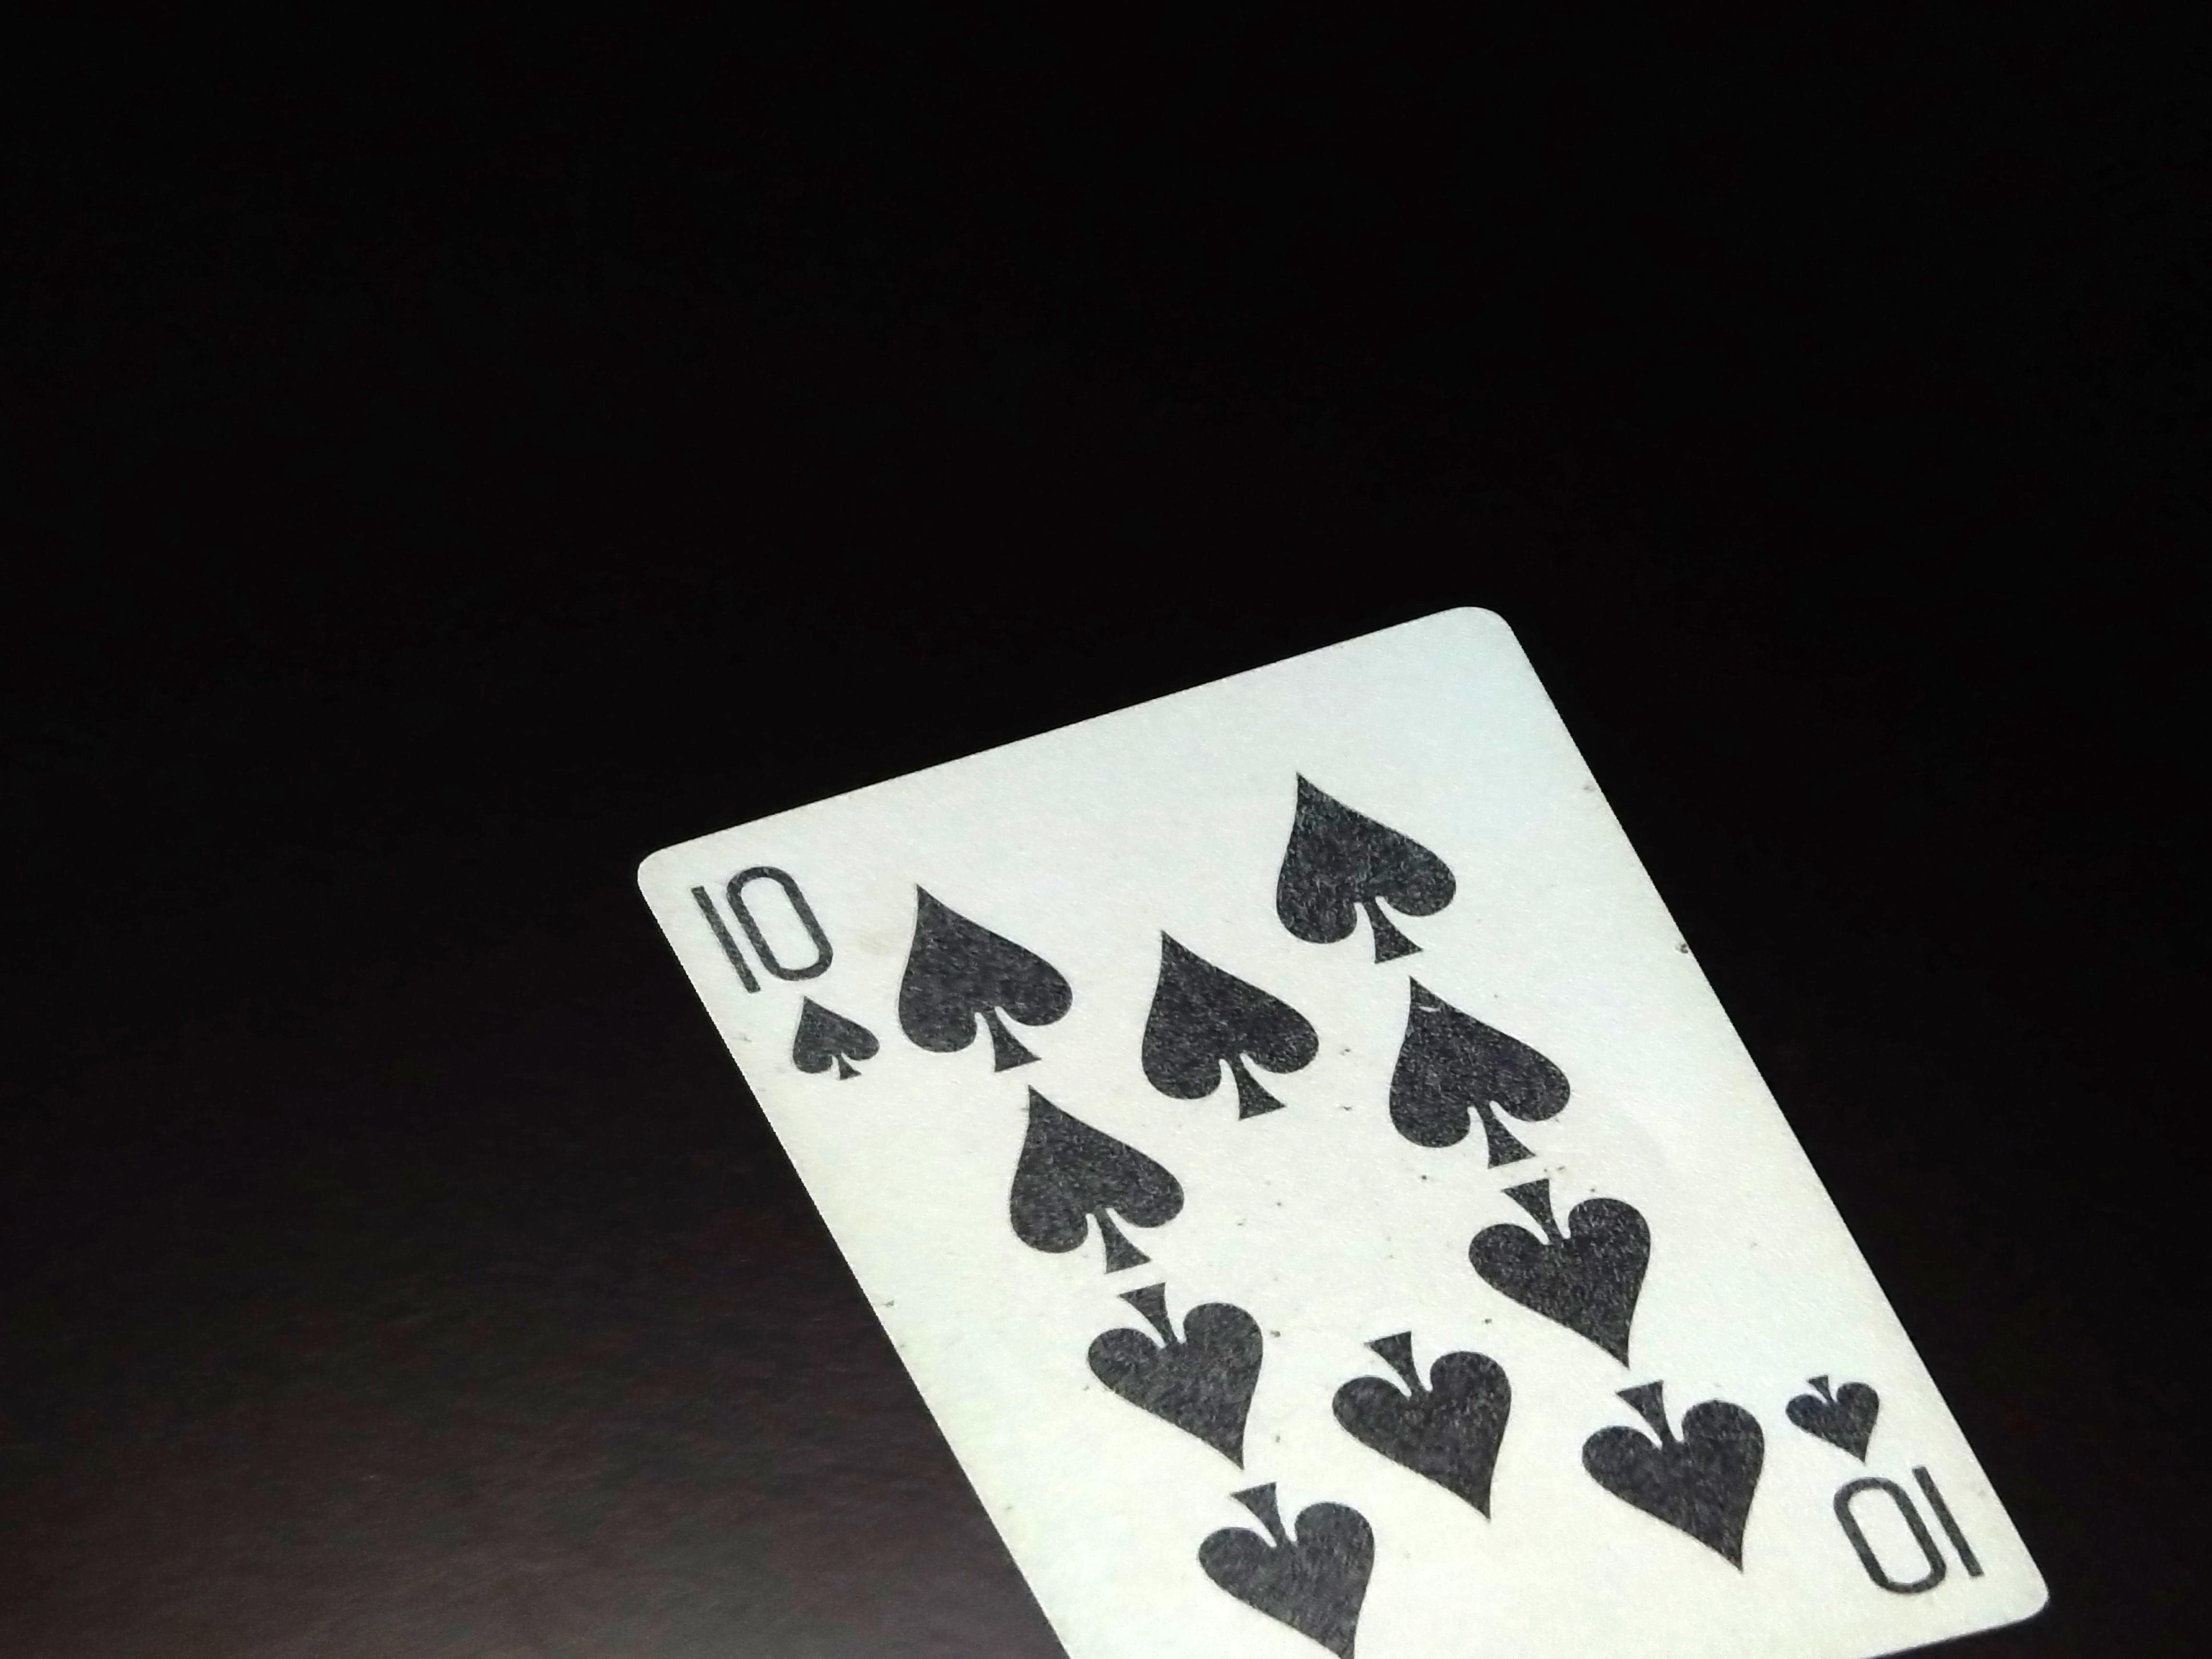10S: (686, 857, 894, 1127)
